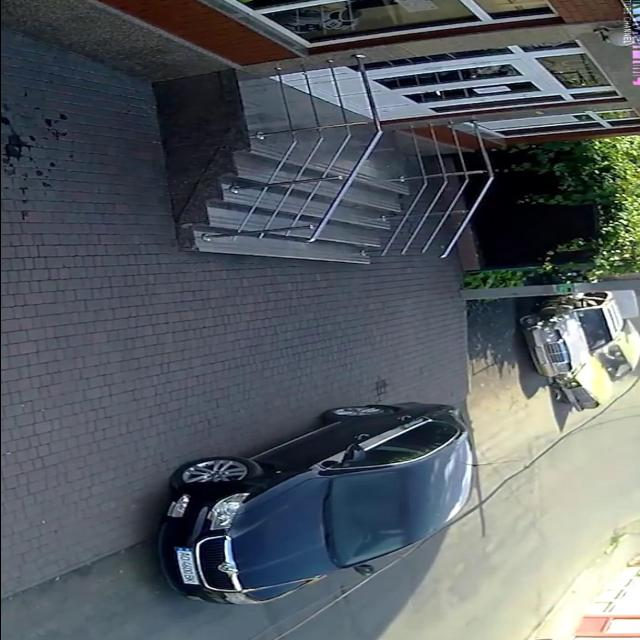accident: (516, 291, 640, 417)
